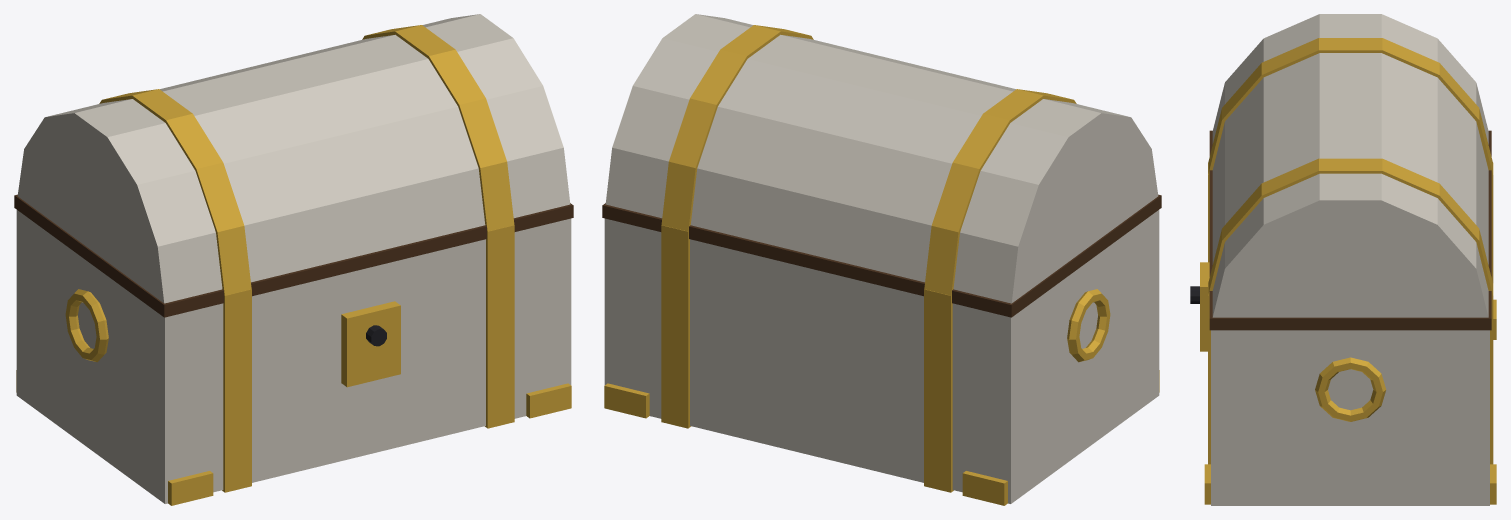
Rendered from chest.glb.
3 renders of one model, left to right at view 1: azimuth 30°, elevation 25°; view 2: azimuth 150°, elevation 25°; view 3: azimuth 270°, elevation 25°, orthographic. The views are drawn at different scales.
Visible parts, largest first — view 1: chest; view 2: chest; view 3: chest.
Part boxes in pixels (x1=…): chest: x1=14, y1=14, x2=573, y2=505; chest: x1=602, y1=14, x2=1161, y2=505; chest: x1=1190, y1=14, x2=1496, y2=505.
Size of the model in its own units: 0.7073 by 0.527 by 0.472.
